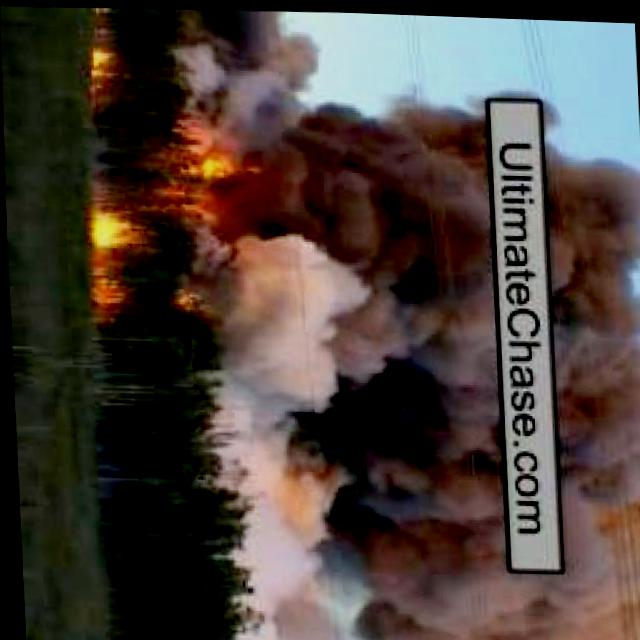helmet: (190, 144, 255, 184), (88, 211, 145, 251), (88, 46, 109, 87), (87, 286, 118, 312)
no_helmet: (188, 182, 509, 640), (539, 137, 640, 640), (240, 10, 486, 197)
